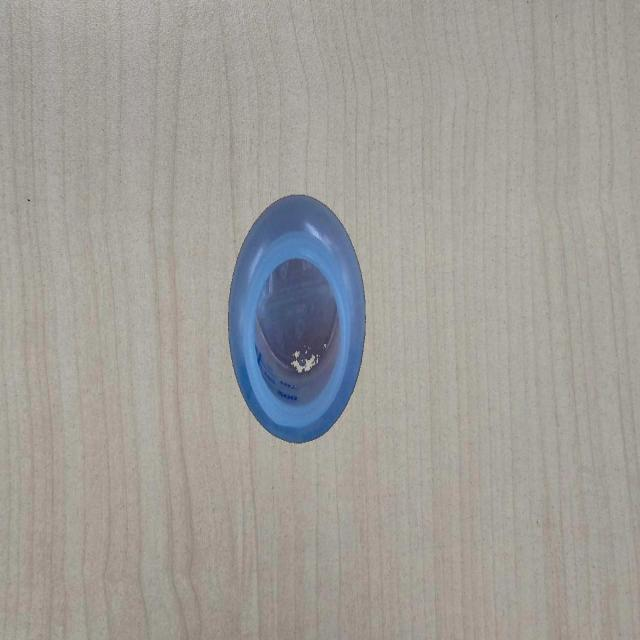bottle: (226, 187, 369, 448)
